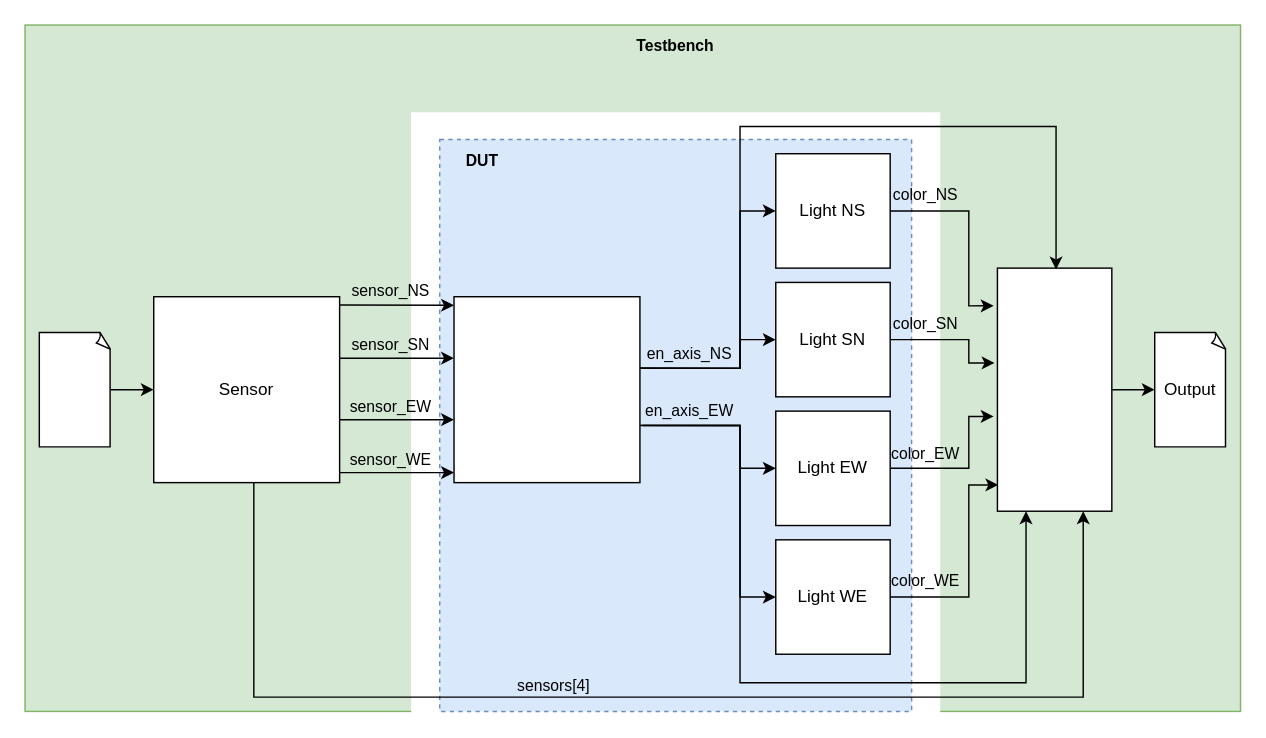
The diagram is 1266 pixels wide and 738 high, and some of its shapes have lost their labels. Each missing label, with the centre of its shape:
Controller: the point at 546,389
Monitor: the point at 1054,389
stimuli: the point at 74,389
